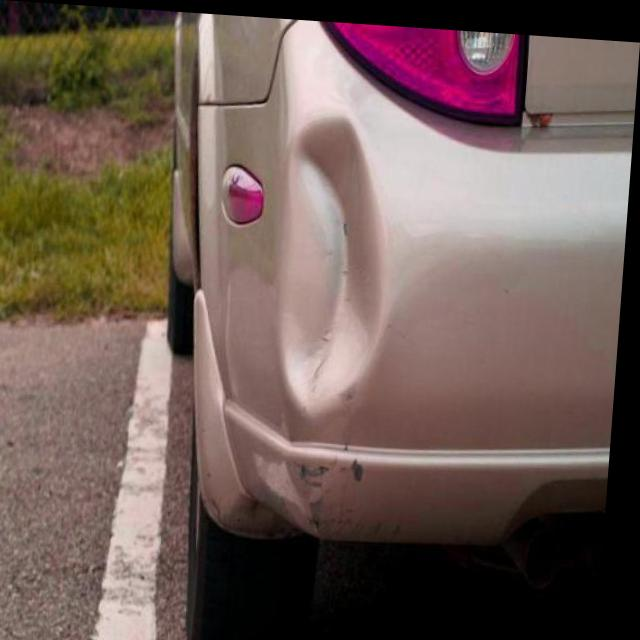Car-Damage: (271, 104, 407, 418), (253, 421, 379, 530)
